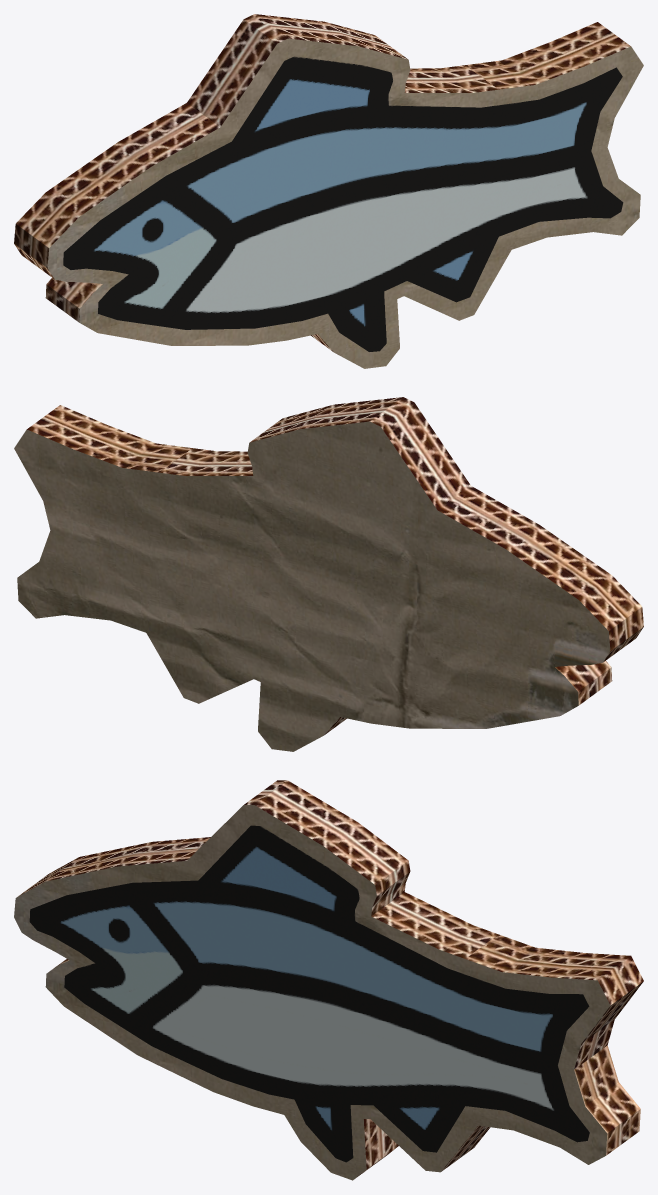
File: salmon.fbx
The picture shows the model from 3 angles, top to bottom: view 1: azimuth 30°, elevation 25°; view 2: azimuth 150°, elevation 25°; view 3: azimuth 330°, elevation 25°; orthographic projection.
Visible parts, largest first — view 1: salmon; view 2: salmon; view 3: salmon.
Boxes of the visible parts, box(x1,y1,x2,y2) form: salmon: box(14, 14, 643, 368); salmon: box(14, 397, 643, 751); salmon: box(14, 780, 643, 1180).
Size of the model in its own units: 82.22 by 46.31 by 8.
